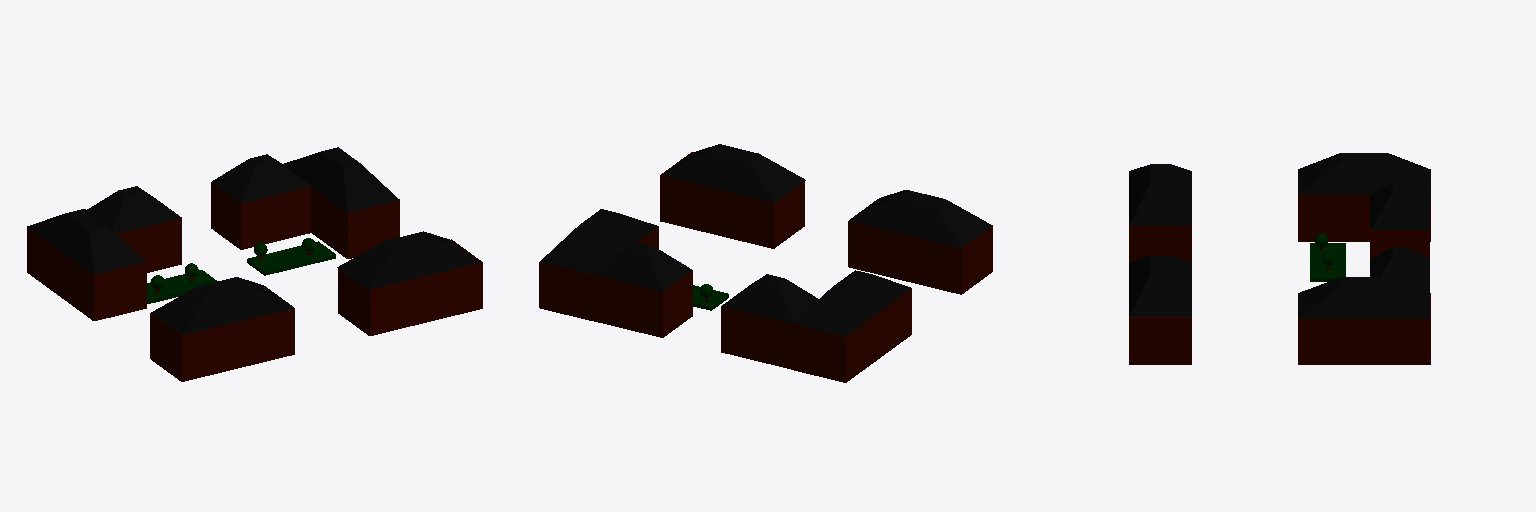
The model's file is shelby.obj.
The picture shows the model from 3 angles: view 1: azimuth 30°, elevation 25°; view 2: azimuth 150°, elevation 25°; view 3: azimuth 270°, elevation 25°; orthographic projection.
Visible parts, largest first — view 1: SW_Cube.010, SE_Cube.009, NW2_Cube.012, NE1_Cube.008, SE_R_Cube.019, SW_R_Cube.015, NW2_R_Cube.013, NE2_Cube.007, NE2_R_Cube.018, NE1_R_Cube.017, NW1_R_Cube.014, NW1_Cube.011 (+2 smaller); view 2: SW_Cube.010, SE_Cube.009, NW2_Cube.012, NE1_Cube.008, SE_R_Cube.019, SW_R_Cube.015, NW2_R_Cube.013, NE2_R_Cube.018, NW1_Cube.011, NE2_Cube.007, NE1_R_Cube.017, NW1_R_Cube.014; view 3: NE2_Cube.007, NE2_R_Cube.018, NW2_R_Cube.013, SW_R_Cube.015, SE_R_Cube.019, NW2_Cube.012, SE_Cube.009, NW1_R_Cube.014, SW_Cube.010, NE1_R_Cube.017, NW1_Cube.011, Cube.019_Cube.021.
Part boxes in pixels (x1,y1,x2,y2): SW_Cube.010: (150,286,294,381); SE_Cube.009: (338,239,482,335); NW2_Cube.012: (27,226,146,320); NE1_Cube.008: (211,182,310,249); SE_R_Cube.019: (337,231,481,289); SW_R_Cube.015: (151,277,293,335); NW2_R_Cube.013: (28,209,145,274); NE2_Cube.007: (311,186,399,258); NE2_R_Cube.018: (283,147,399,212); NE1_R_Cube.017: (212,154,311,202); NW1_R_Cube.014: (87,186,181,233); NW1_Cube.011: (117,203,181,272); SW_Cube.010: (848,201,992,294); SE_Cube.009: (660,152,804,248); NW2_Cube.012: (793,289,911,382); NE1_Cube.008: (592,270,692,337); SE_R_Cube.019: (663,144,805,202); SW_R_Cube.015: (849,190,992,247); NW2_R_Cube.013: (794,270,911,335); NE2_R_Cube.018: (540,209,657,273); NW1_Cube.011: (721,285,793,369); NE2_Cube.007: (539,226,658,320); NE1_R_Cube.017: (592,242,691,291); NW1_R_Cube.014: (722,274,818,322); NE2_Cube.007: (1298,293,1430,364); NE2_R_Cube.018: (1298,277,1429,318); NW2_R_Cube.013: (1298,153,1430,194); SW_R_Cube.015: (1129,164,1191,225); SE_R_Cube.019: (1129,256,1191,316); NW2_Cube.012: (1298,195,1430,241); SE_Cube.009: (1129,317,1191,364); NW1_R_Cube.014: (1370,183,1429,229); SW_Cube.010: (1129,226,1191,261); NE1_R_Cube.017: (1370,247,1429,292); NW1_Cube.011: (1370,230,1429,258); Cube.019_Cube.021: (1310,243,1345,281).
Bounding box in the file's own units: 82.65 × 18.89 × 70.38.